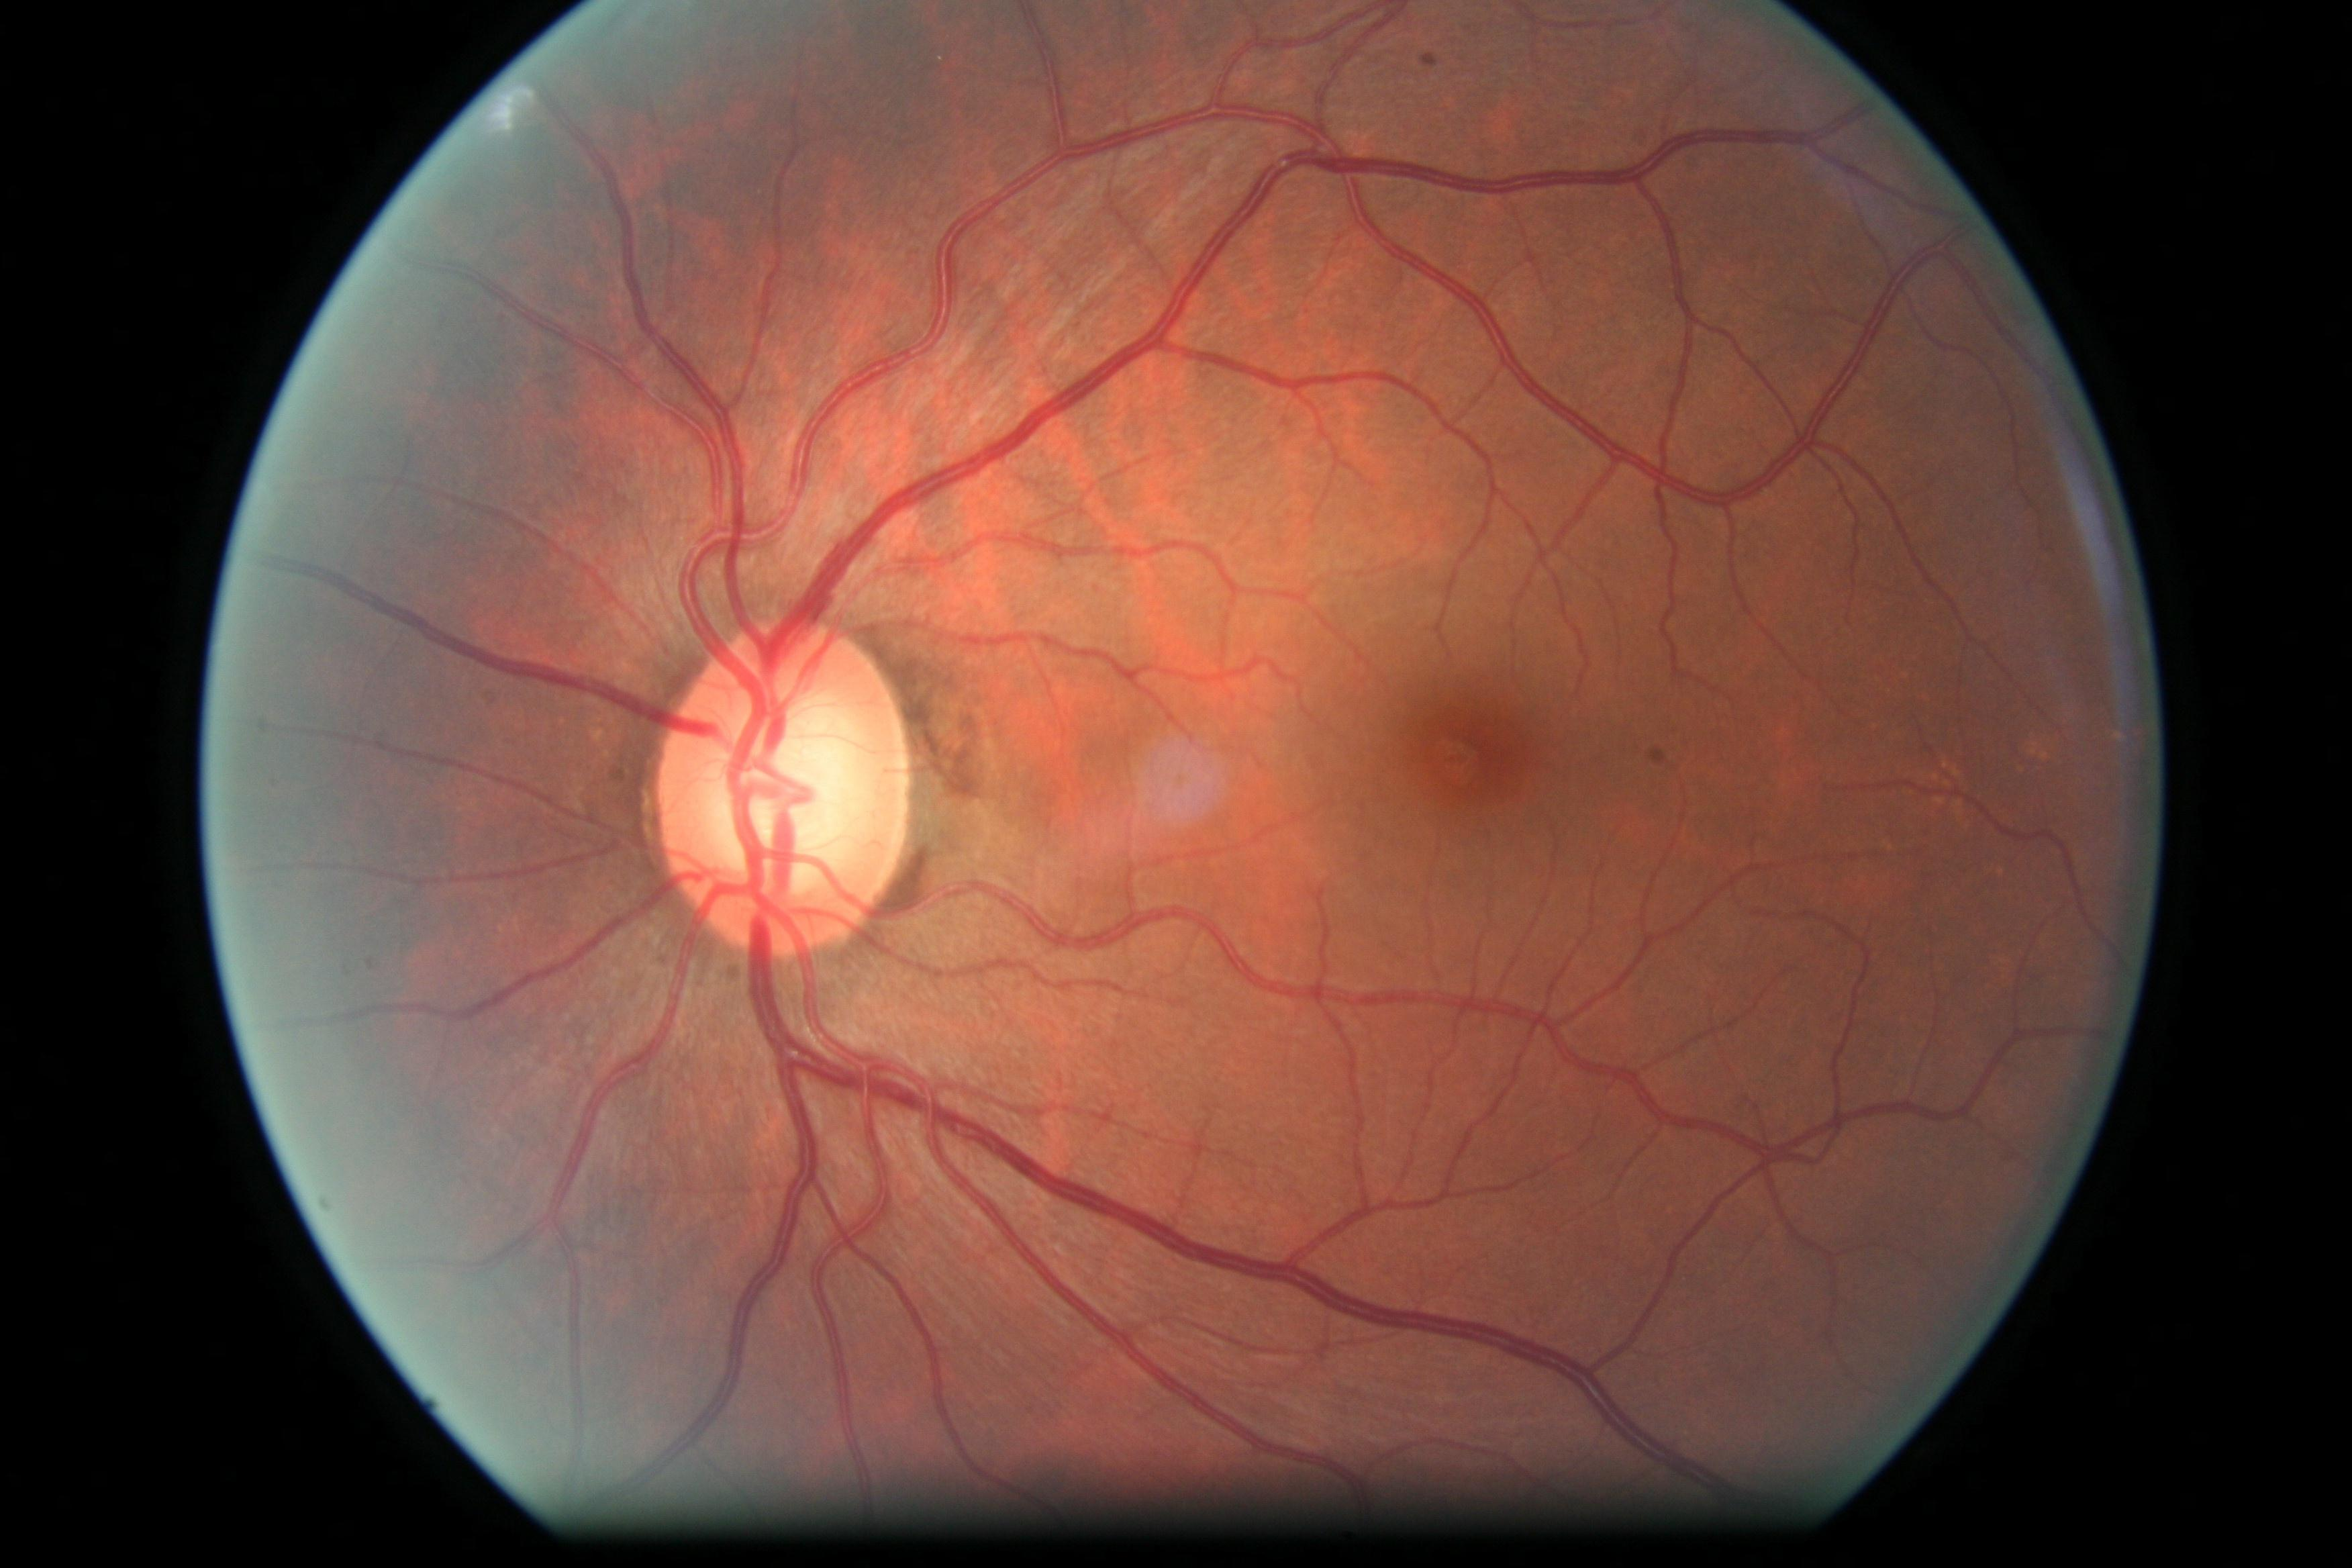Optic-nerve: (647, 614, 914, 964)
macula: (1318, 628, 1626, 915)
